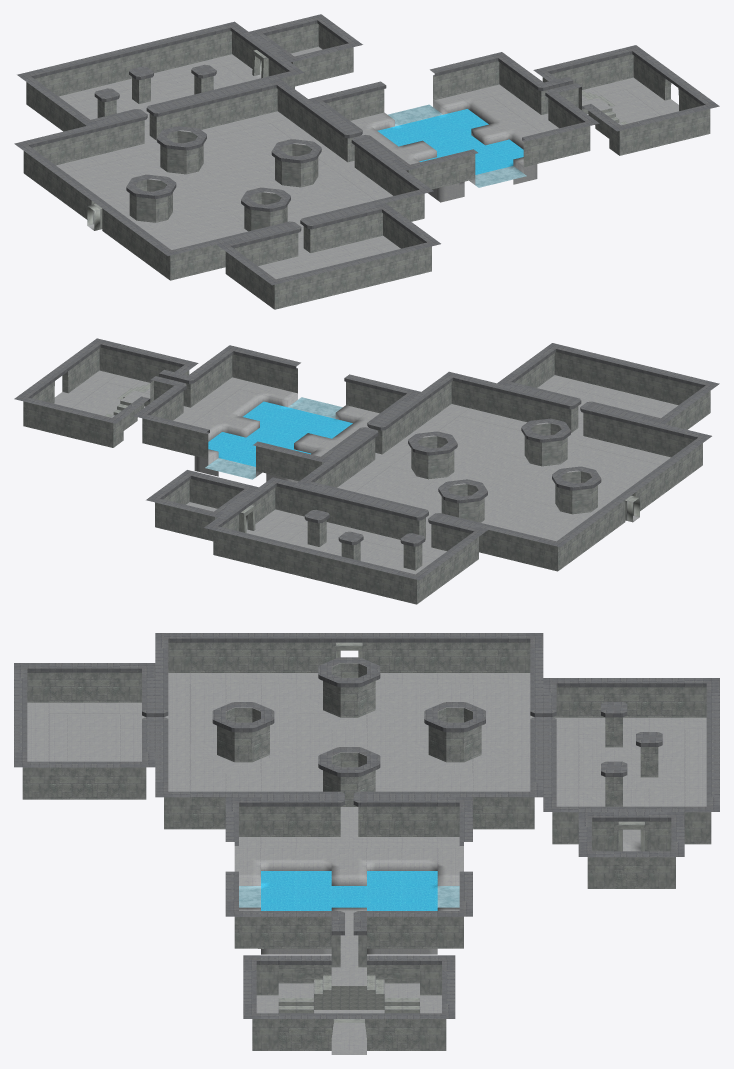
The model's file is ice_level.FBX.
3 views of the same model, one above another, from view 1: azimuth 30°, elevation 25°; view 2: azimuth 150°, elevation 25°; view 3: azimuth 270°, elevation 25° (orthographic). The views are drawn at different scales.
Visible parts, largest first — view 1: ice_doorway001; view 2: ice_doorway001; view 3: ice_doorway001.
Part boxes in pixels (box(x1,y1,x2,y2)): ice_doorway001: box(14, 14, 719, 309); ice_doorway001: box(14, 338, 719, 604); ice_doorway001: box(14, 633, 719, 1054).
Bounding box in the file's own units: 970 × 85 × 800.
Materials: 2 (2 with a texture image).
